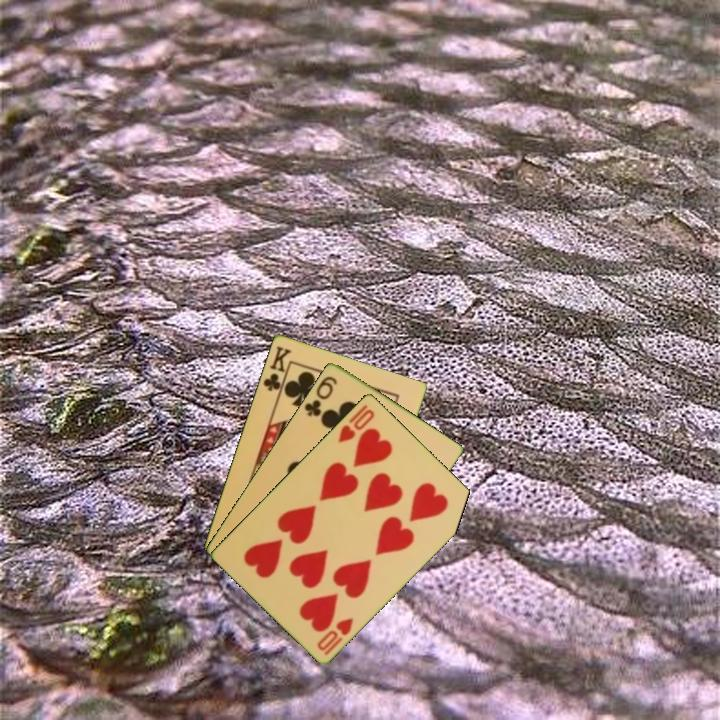10h: (334, 400, 377, 445), (313, 614, 356, 658)
6c: (301, 372, 340, 419)
Kc: (259, 342, 294, 399)
